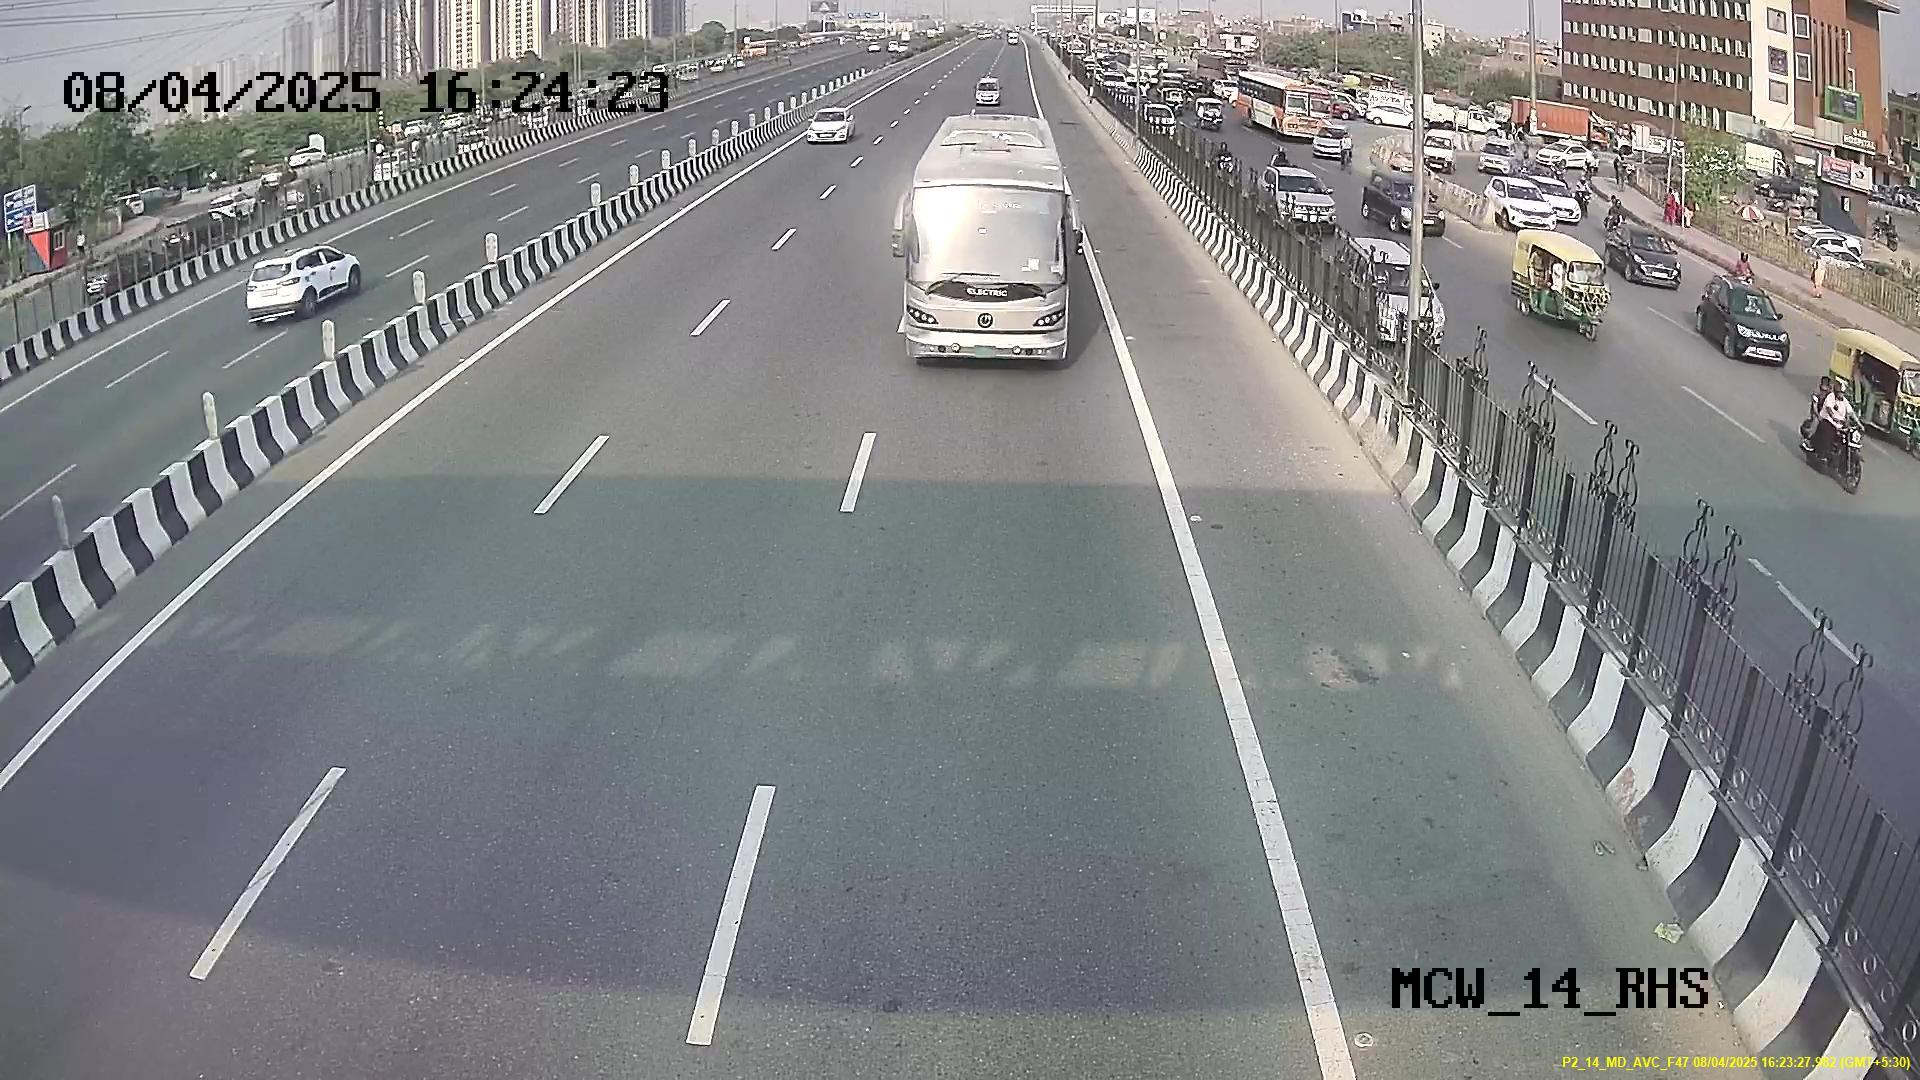bus: (891, 137, 1085, 365)
